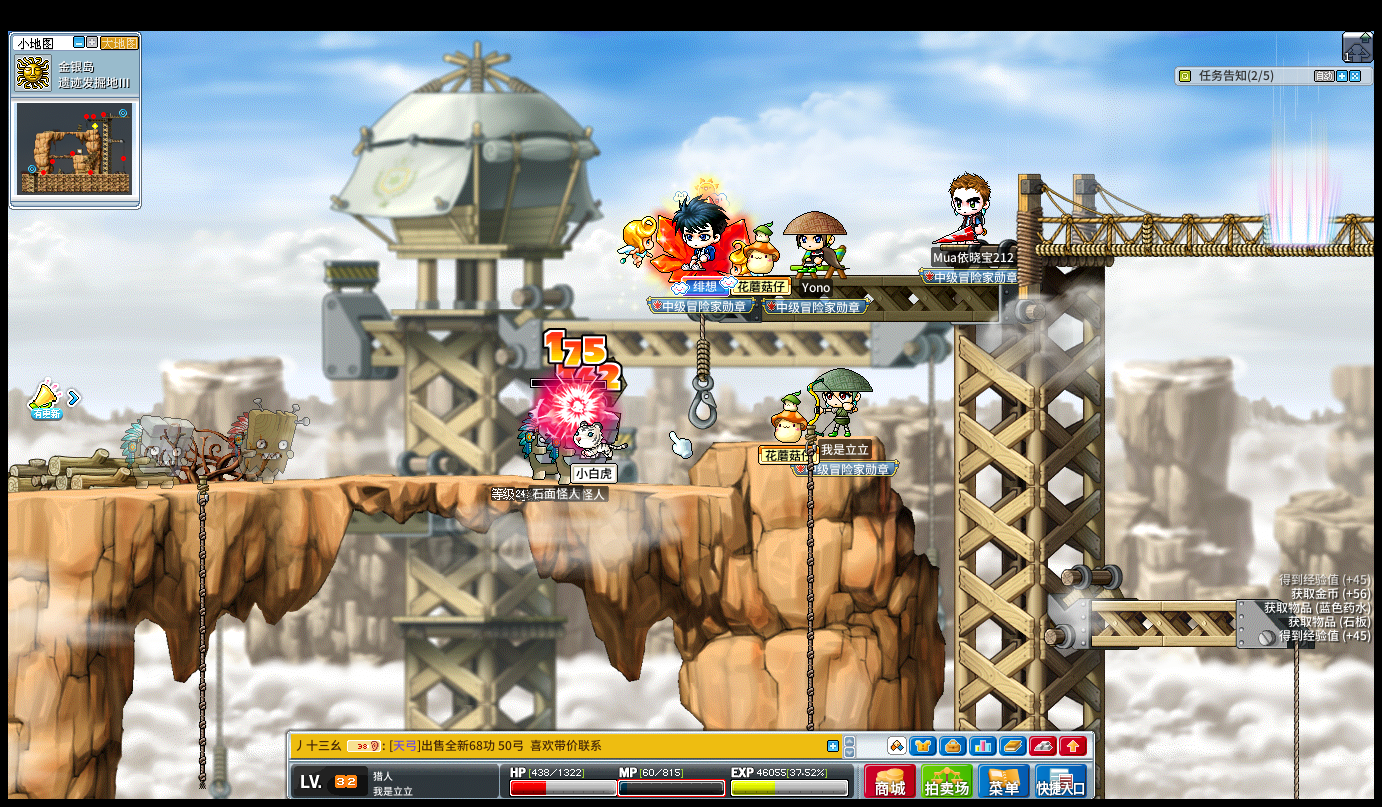floor: (16, 469, 789, 498), (36, 472, 760, 492)
monster: (229, 401, 304, 482), (120, 413, 194, 489)
rope: (193, 466, 208, 802), (802, 401, 817, 726), (1289, 644, 1303, 793)
